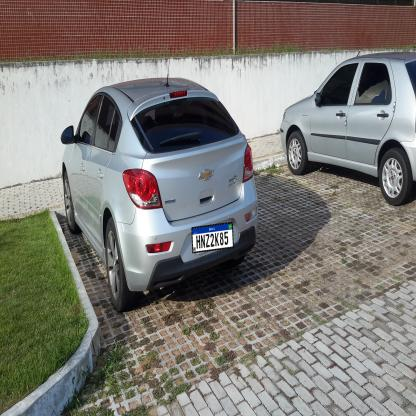PlacaM: (191, 222, 234, 253)
